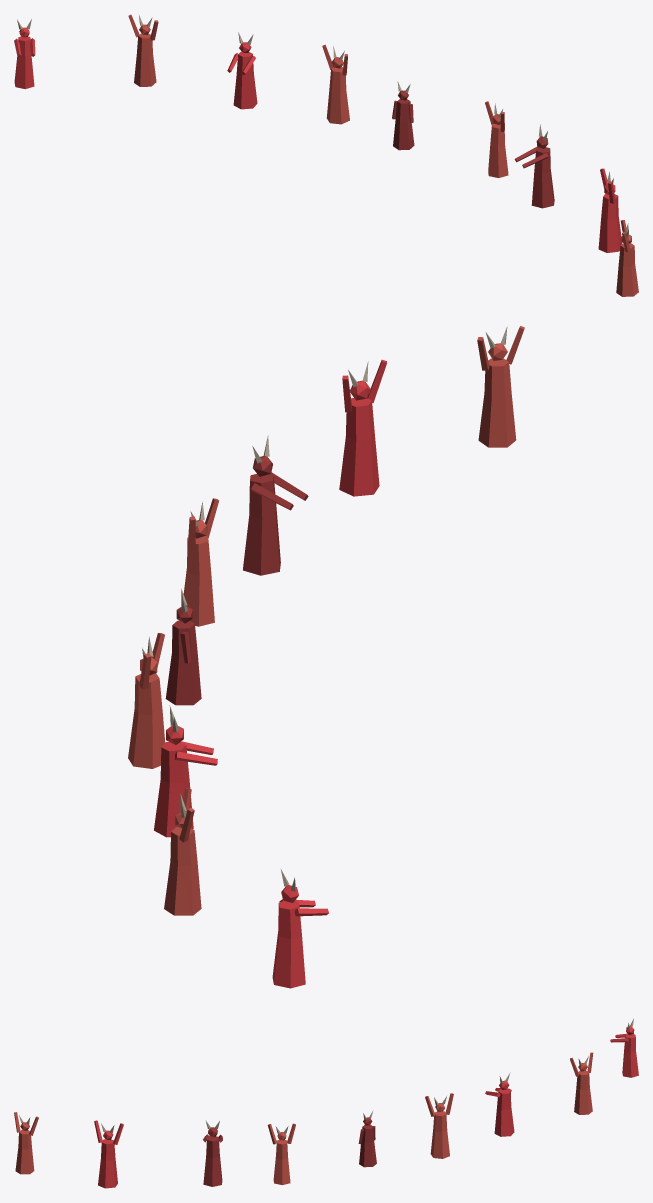
The model's file is Stands_5_1_0.obj.
The picture shows the model from 3 angles, top to bottom: view 1: azimuth 30°, elevation 25°; view 2: azimuth 150°, elevation 25°; view 3: azimuth 270°, elevation 25°; orthographic projection. The views are drawn at different scales.
Visible parts, largest first — view 1: Stands_5_1_0; view 2: Stands_5_1_0; view 3: Stands_5_1_0.
Part boxes in pixels (bbox=[...]): Stands_5_1_0: bbox=[14, 14, 638, 296]; Stands_5_1_0: bbox=[128, 326, 524, 988]; Stands_5_1_0: bbox=[14, 1018, 638, 1188].
Bounding box in the file's own units: 15.26 × 3.73 × 33.32.
1 material, 1 textured.
